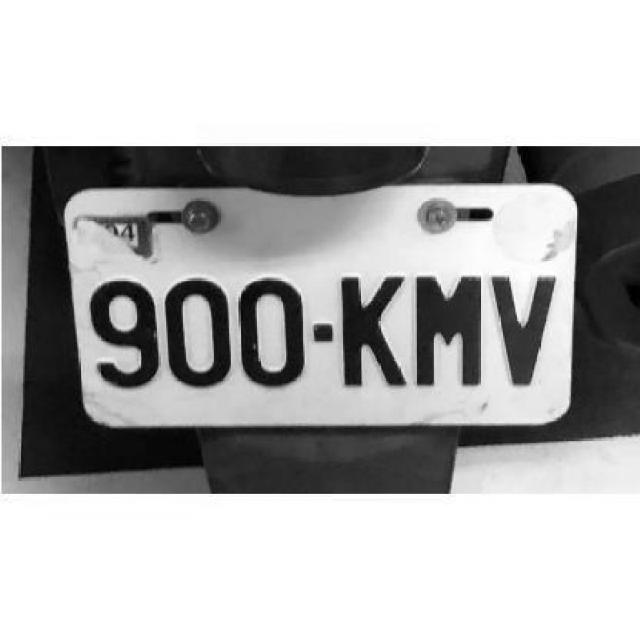-: (312, 322, 336, 342)
0: (162, 272, 232, 388), (237, 274, 308, 386)
9: (85, 278, 162, 388)
K: (338, 276, 411, 392)
M: (414, 272, 484, 391)
V: (491, 271, 558, 386)
